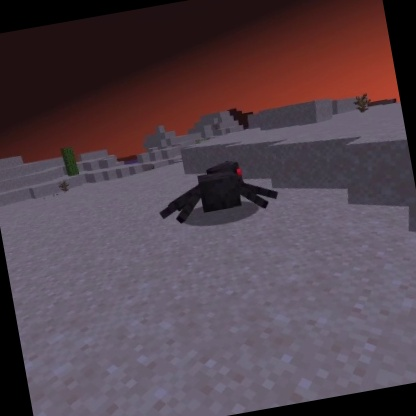spider: (149, 149, 284, 232)
